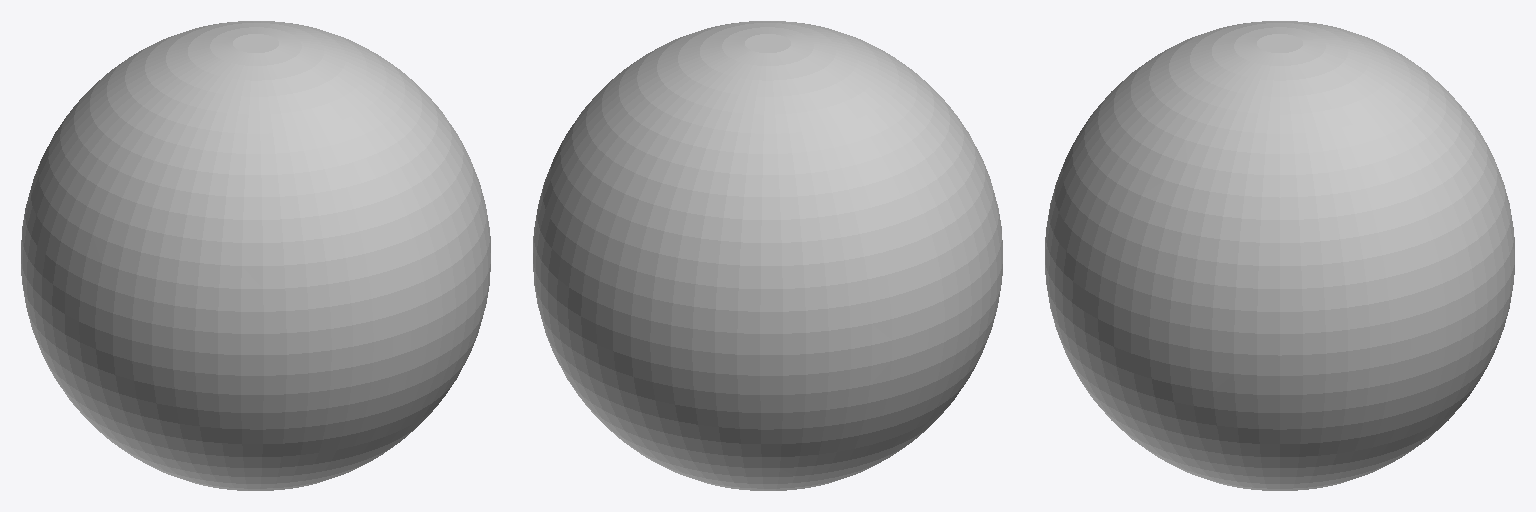
Rendered from ball1.obj.
The picture shows the model from 3 angles: view 1: azimuth 30°, elevation 25°; view 2: azimuth 150°, elevation 25°; view 3: azimuth 270°, elevation 25°; orthographic projection.
Parts seen in each view (by area): view 1: planet_Sphere.011; view 2: planet_Sphere.011; view 3: planet_Sphere.011.
Part boxes in pixels (x1,y1,x2,y2): planet_Sphere.011: (21, 21, 490, 490); planet_Sphere.011: (533, 21, 1002, 490); planet_Sphere.011: (1045, 21, 1514, 490).
Bounding box in the file's own units: 0.2214 × 0.2204 × 0.2214.